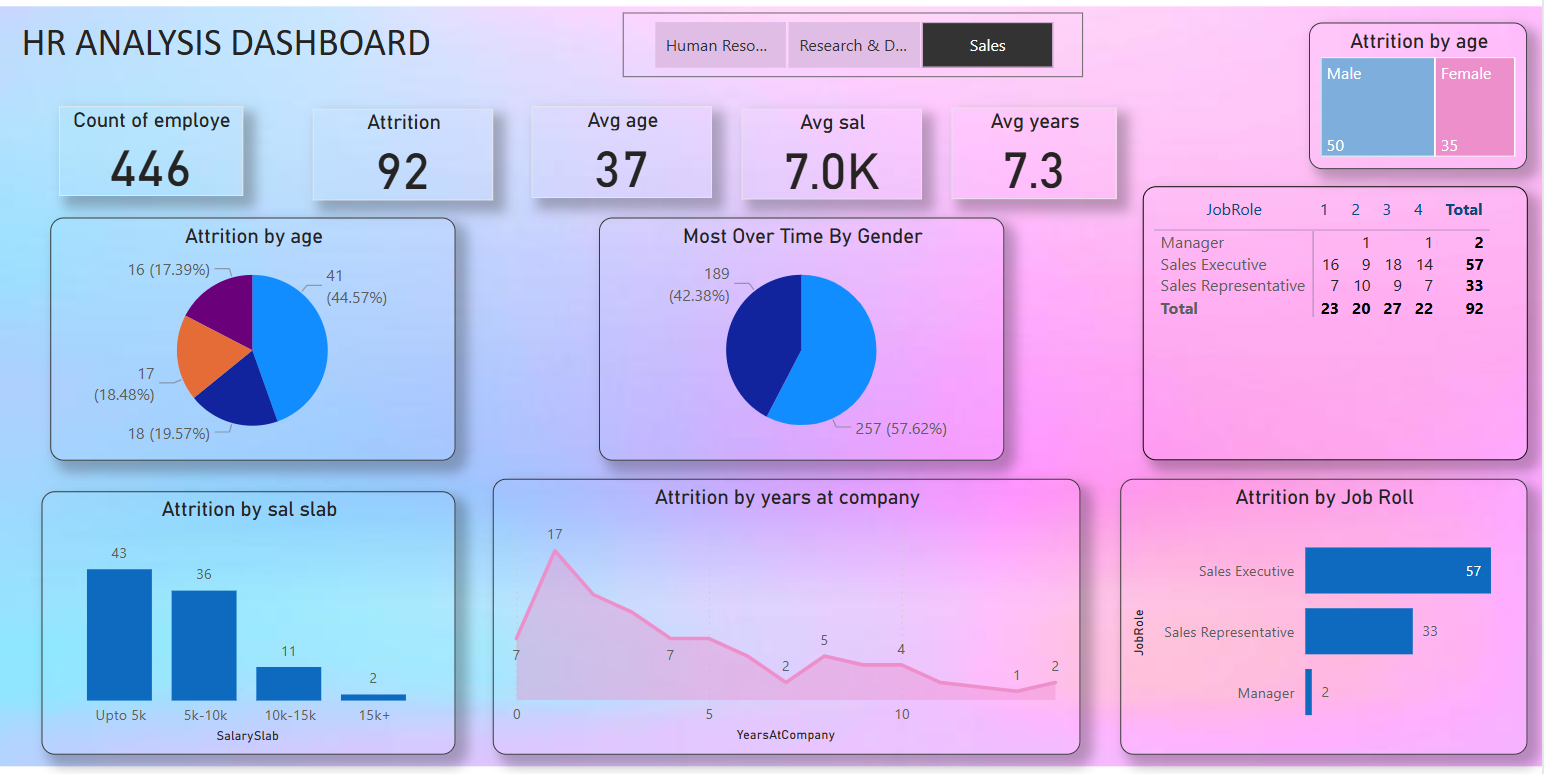

The page's visual inventory and layout, read from the dashboard file:
{"tool":"powerbi","page":{"name":"Page 1","canvas":[1280,720],"ordinal":0},"visuals":[{"type":"card","title":"Count of employe","fields":{"Values":["CountNonNull(HR_Analytics 1.EmpID)"]},"box":[49.4,125.6,152.4,74.8],"z":0},{"type":"card","title":"Attrition","fields":{"Values":["CountNonNull(HR_Analytics 1.Attrition count)"]},"box":[259.7,127,149.6,76.2],"z":1000},{"type":"card","title":"Avg age","fields":{"Values":["Avg(HR_Analytics 1.Age)"]},"box":[441.7,125.6,149.6,76.2],"z":2000},{"type":"card","title":"Avg sal","fields":{"Values":["Avg(HR_Analytics 1.MonthlyIncome)"]},"box":[615.5,127,149.7,75.5],"z":3000},{"type":"card","title":"Avg years","fields":{"Values":["Avg(HR_Analytics 1.YearsAtCompany)"]},"box":[789.5,126.7,136.9,76.2],"z":4000},{"type":"pieChart","title":"Attrition by age","fields":{"Category":["HR_Analytics 1.AgeGroup"],"Y":["CountNonNull(HR_Analytics 1.Attrition count)"]},"box":[42.3,217.3,335.9,201.8],"z":5000},{"type":"pivotTable","fields":{"Rows":["HR_Analytics 1.JobRole"],"Columns":["HR_Analytics 1.JobSatisfaction"],"Values":["CountNonNull(HR_Analytics 1.Attrition count)"]},"box":[948.4,191.9,318.9,227.2],"z":6000},{"type":"clusteredColumnChart","title":"Attrition by sal slab","fields":{"Category":["HR_Analytics 1.SalarySlab"],"Y":["CountNonNull(HR_Analytics 1.Attrition count)"]},"box":[35.3,444.5,342.9,218.7],"z":7000},{"type":"barChart","title":"Attrition by Job Roll","fields":{"Category":["HR_Analytics 1.JobRole"],"Y":["CountNonNull(HR_Analytics 1.Attrition count)"]},"box":[930,434.7,337.3,228.6],"z":8000},{"type":"areaChart","title":"Attrition by years at company","fields":{"Category":["HR_Analytics 1.YearsAtCompany"],"Y":["CountNonNull(HR_Analytics 1.Attrition count)"]},"box":[409.3,434.7,486.9,228.6],"z":9000},{"type":"treemap","title":"Attrition by age","fields":{"Group":["HR_Analytics 1.Gender"],"Values":["CountNonNull(HR_Analytics 1.Attrition count)"]},"box":[1085.5,55.9,181.1,121.6],"z":10000},{"type":"slicer","fields":{"Values":["HR_Analytics 1.Department"]},"box":[516.6,47.4,381.7,53.5],"z":11000},{"type":"textbox","box":[13.4,47.4,493.5,53.5],"z":12000},{"type":"pieChart","title":"Most Over Time By Gender","fields":{"Category":["HR_Analytics 1.Gender"],"Y":["CountNonNull(HR_Analytics 1.OverTime)"]},"box":[497.5,217.5,336.2,201.2],"z":13000}]}

Visuals, with their boxes on the page's 1280x720 design canvas (x1, y1, x2, y2). These are canvas units, not pixel positions in the 1544x774 screenshot, which may show the page scaled, cropped or inside an application window:
"Count of employe" card: (x1=49, y1=126, x2=202, y2=200)
"Attrition" card: (x1=260, y1=127, x2=409, y2=203)
"Avg age" card: (x1=442, y1=126, x2=591, y2=202)
"Avg sal" card: (x1=616, y1=127, x2=765, y2=202)
"Avg years" card: (x1=790, y1=127, x2=926, y2=203)
"Attrition by age" pieChart: (x1=42, y1=217, x2=378, y2=419)
pivotTable - HR_Analytics 1.JobRole x HR_Analytics 1.JobSatisfaction: (x1=948, y1=192, x2=1267, y2=419)
"Attrition by sal slab" clusteredColumnChart: (x1=35, y1=444, x2=378, y2=663)
"Attrition by Job Roll" barChart: (x1=930, y1=435, x2=1267, y2=663)
"Attrition by years at company" areaChart: (x1=409, y1=435, x2=896, y2=663)
"Attrition by age" treemap: (x1=1086, y1=56, x2=1267, y2=178)
slicer - HR_Analytics 1.Department: (x1=517, y1=47, x2=898, y2=101)
textbox: (x1=13, y1=47, x2=507, y2=101)
"Most Over Time By Gender" pieChart: (x1=498, y1=218, x2=834, y2=419)
